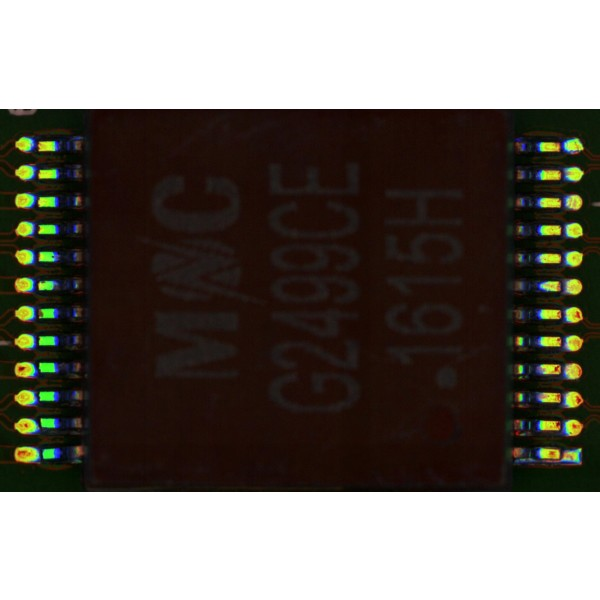Bad_podu: (554, 451, 570, 460)
Bad_qiaojiao: (522, 459, 560, 463)
